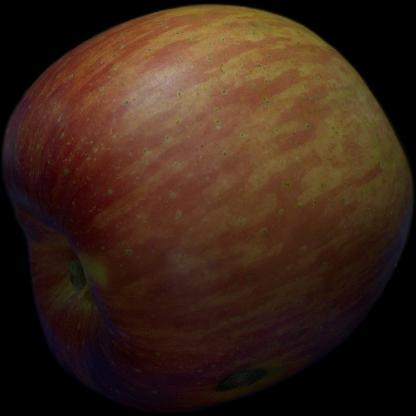defect: (80, 324, 310, 394)
